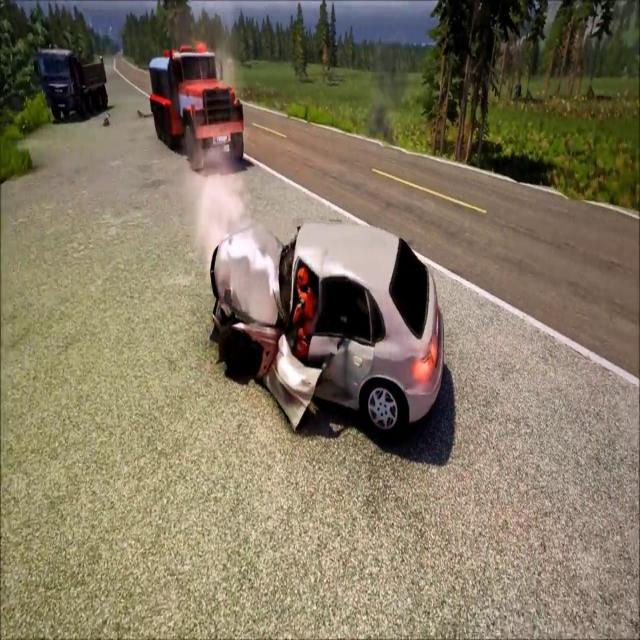accident: (207, 212, 450, 446)
